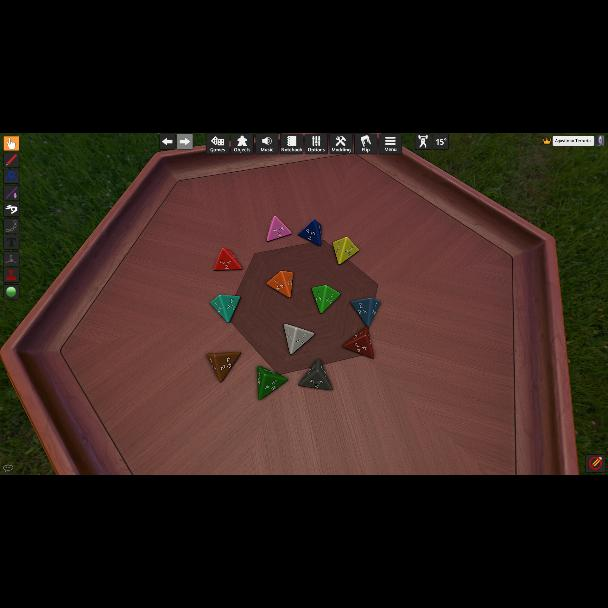d4: (298, 359, 334, 391), (256, 366, 286, 400), (206, 352, 240, 382), (342, 328, 373, 359), (283, 325, 313, 356), (211, 294, 241, 324), (350, 297, 380, 327), (312, 284, 340, 314), (266, 271, 294, 299), (332, 236, 358, 266), (266, 215, 292, 242), (214, 247, 242, 271), (297, 220, 321, 247)
